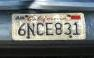1: (73, 21, 81, 36)
3: (64, 22, 72, 36)
6: (17, 22, 26, 36)
8: (55, 21, 63, 36)
C: (36, 21, 44, 36)
E: (45, 21, 54, 36)
N: (26, 22, 35, 36)
